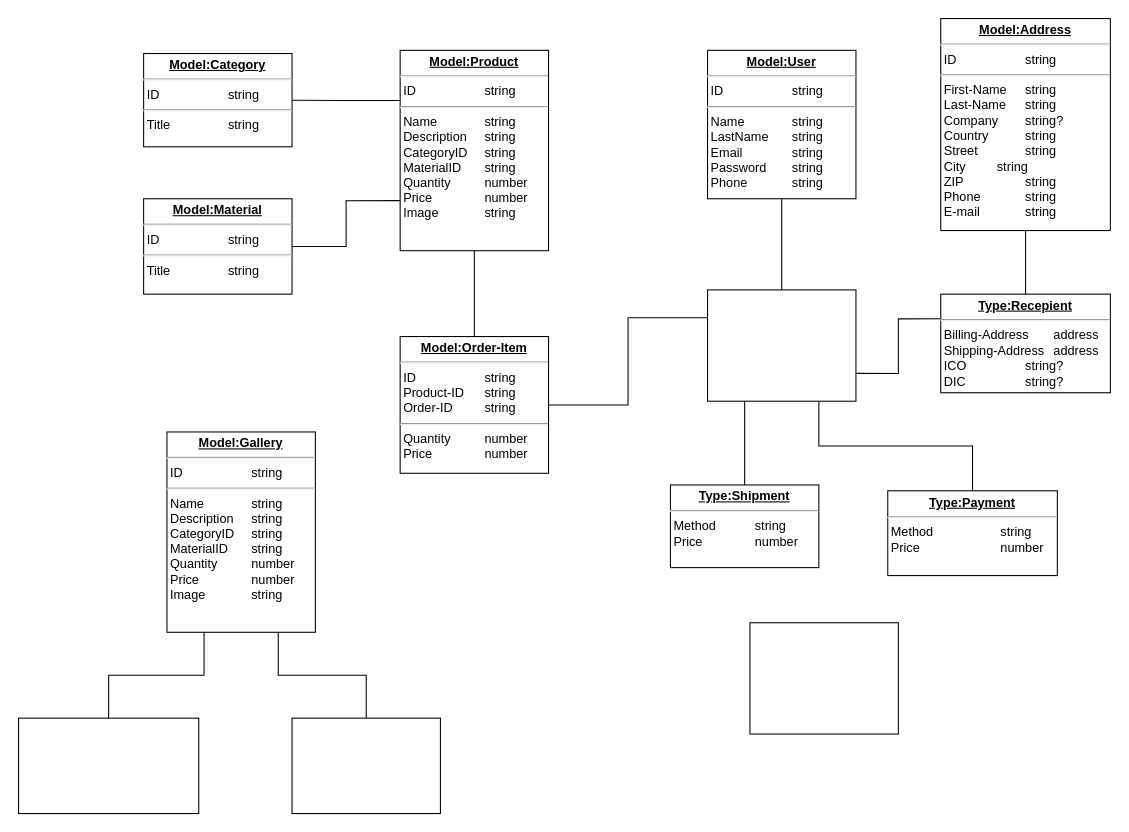
Image size: 1129x832. Some labels were removed from this diagram. The shapes that lost their labels are listed below. From the top down, each one's centre as x and y in pixels, then its label:
At point 781,345: "Model:Order ID string User-ID string? Order-date date".
At point 823,678: "Model:Shopping-Cart ID string User-ID string? Order-date date".
At point 108,765: "Model:Gallery-Category ID string Title string".
At point 365,765: "Model:Dimensions ID string Title string".
